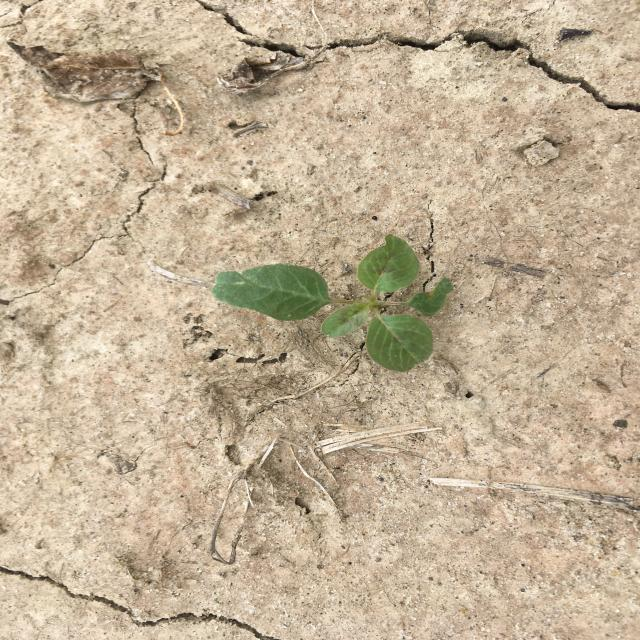PalmerAmaranth: (211, 234, 453, 372)
